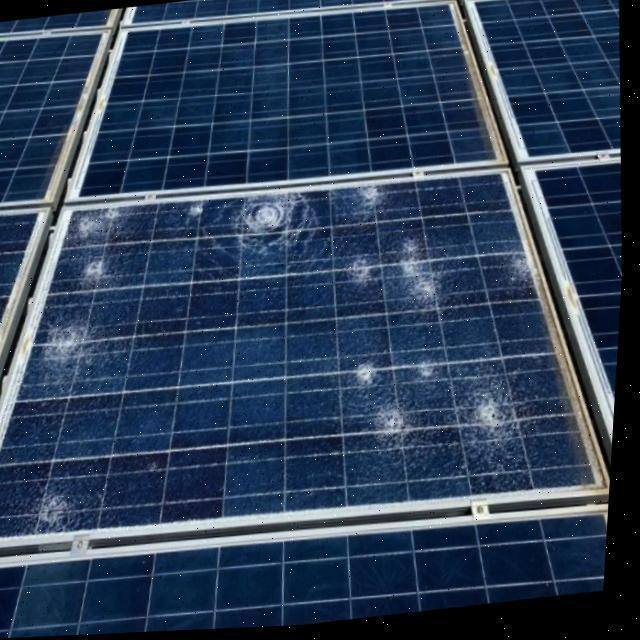Anomaly Solar Panel: (0, 168, 599, 536)
Normal Solar Panel: (0, 495, 616, 639), (79, 3, 497, 196), (535, 167, 626, 491), (474, 0, 623, 165), (0, 26, 110, 205), (0, 208, 55, 367)
Structural Damage: (442, 356, 558, 471), (231, 191, 318, 250), (21, 480, 109, 531), (398, 232, 449, 310), (67, 194, 132, 243), (45, 317, 96, 369), (342, 250, 389, 295), (375, 405, 417, 455), (75, 253, 117, 291), (499, 248, 535, 292), (347, 358, 385, 396), (339, 186, 385, 217), (414, 351, 450, 384), (188, 199, 210, 225)
